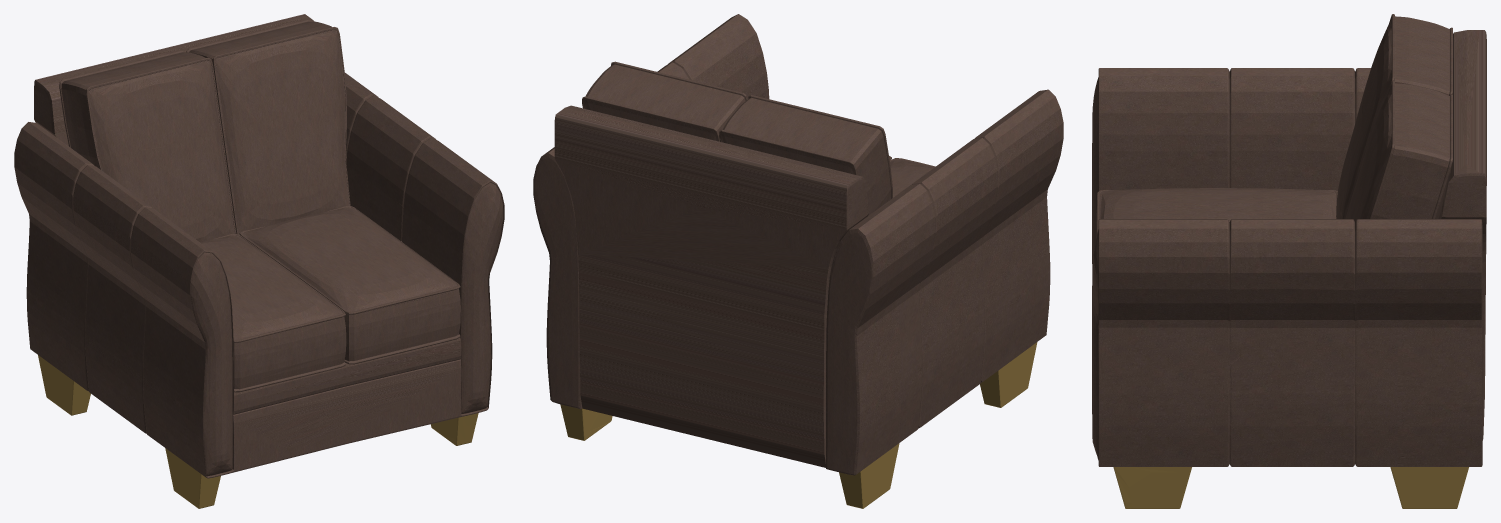
The model's file is sh-bsby-sofa3.glb.
3 views of the same model, side by side, from view 1: azimuth 30°, elevation 25°; view 2: azimuth 150°, elevation 25°; view 3: azimuth 270°, elevation 25° (orthographic). The views are drawn at different scales.
Parts seen in each view (by area): view 1: Cube_Cube.001, Cube.001_Cube.006; view 2: Cube_Cube.001, Cube.001_Cube.006; view 3: Cube_Cube.001, Cube.001_Cube.006.
Part boxes in pixels (x1,y1,x2,y2): Cube_Cube.001: [14, 14, 504, 478]; Cube.001_Cube.006: [38, 355, 478, 508]; Cube_Cube.001: [533, 14, 1063, 475]; Cube.001_Cube.006: [560, 342, 1037, 508]; Cube_Cube.001: [1092, 14, 1486, 466]; Cube.001_Cube.006: [1113, 467, 1468, 508].
Size of the model in its own units: 1 by 0.9999 by 1.
2 materials, 1 textured.
